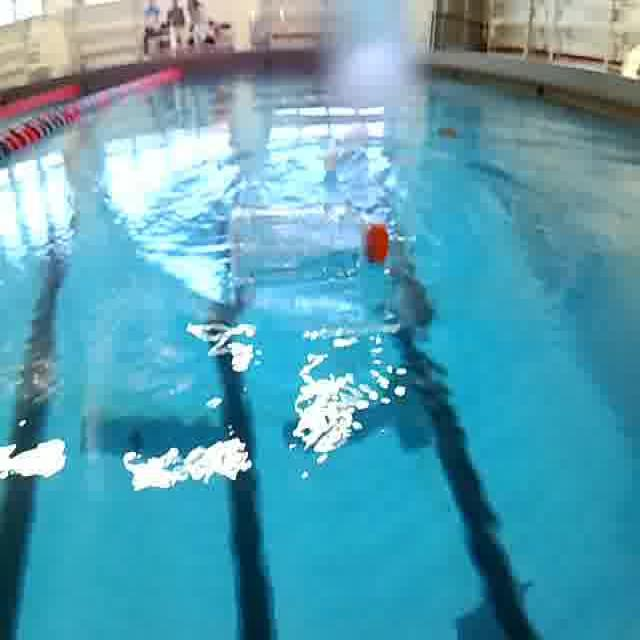Bottle: (224, 198, 394, 290)
